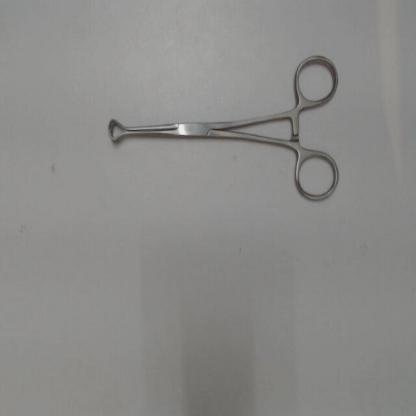Babcock Tissue Forceps: (99, 51, 341, 206)
